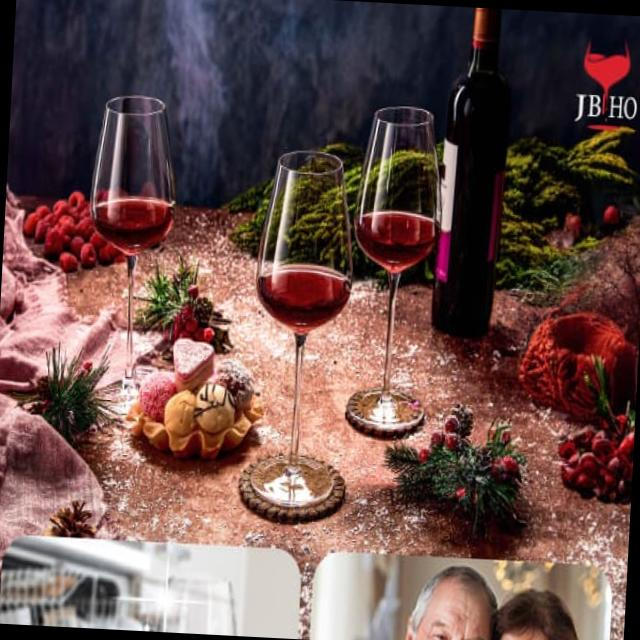glass: (240, 127, 368, 516), (81, 93, 178, 407), (355, 98, 437, 420), (436, 17, 516, 346)
